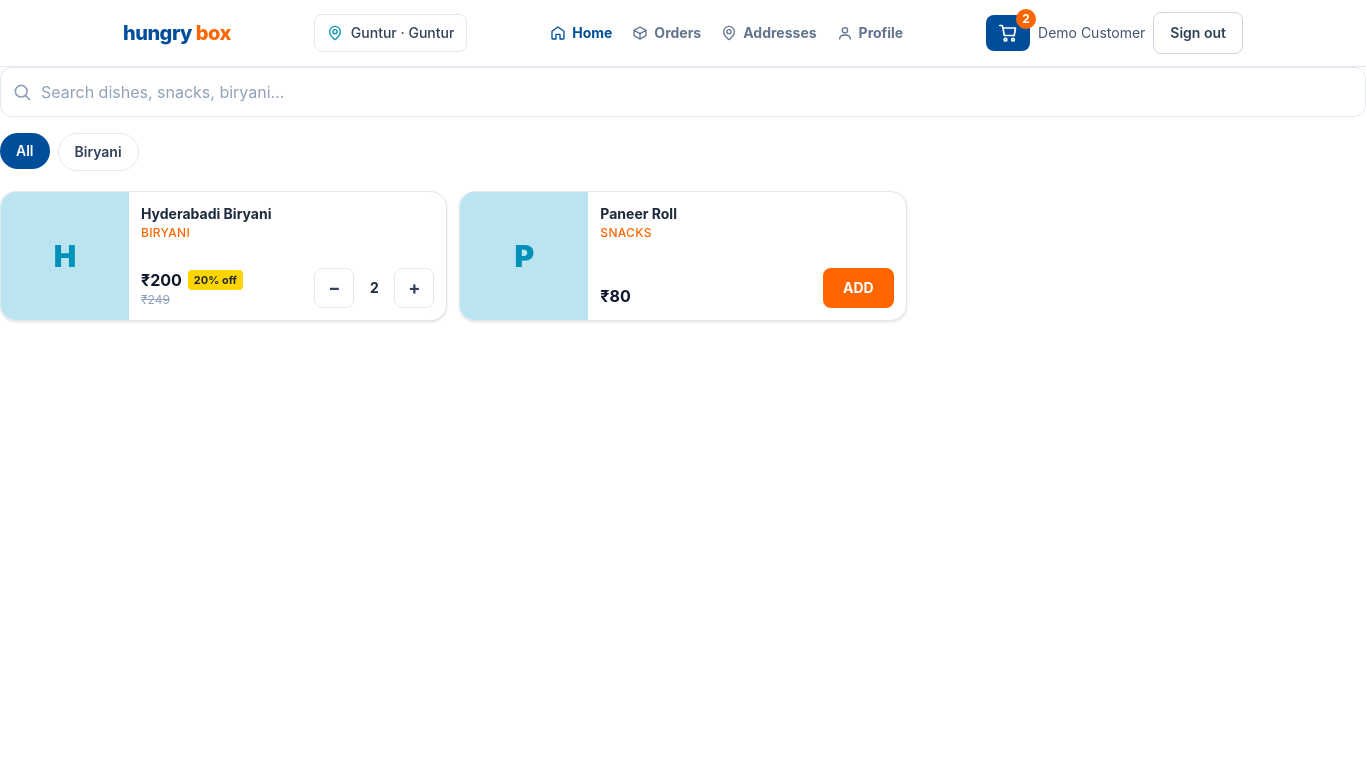
Test: location switching › asks for confirmation before switching branch with a non-empty cart
Expected: the heading "Hyderabadi Biryani" is shown, [141,205,272,222]
Click the button "Guntur · Guntur" at {"x": 391, "y": 33}, box [314,14,467,52]
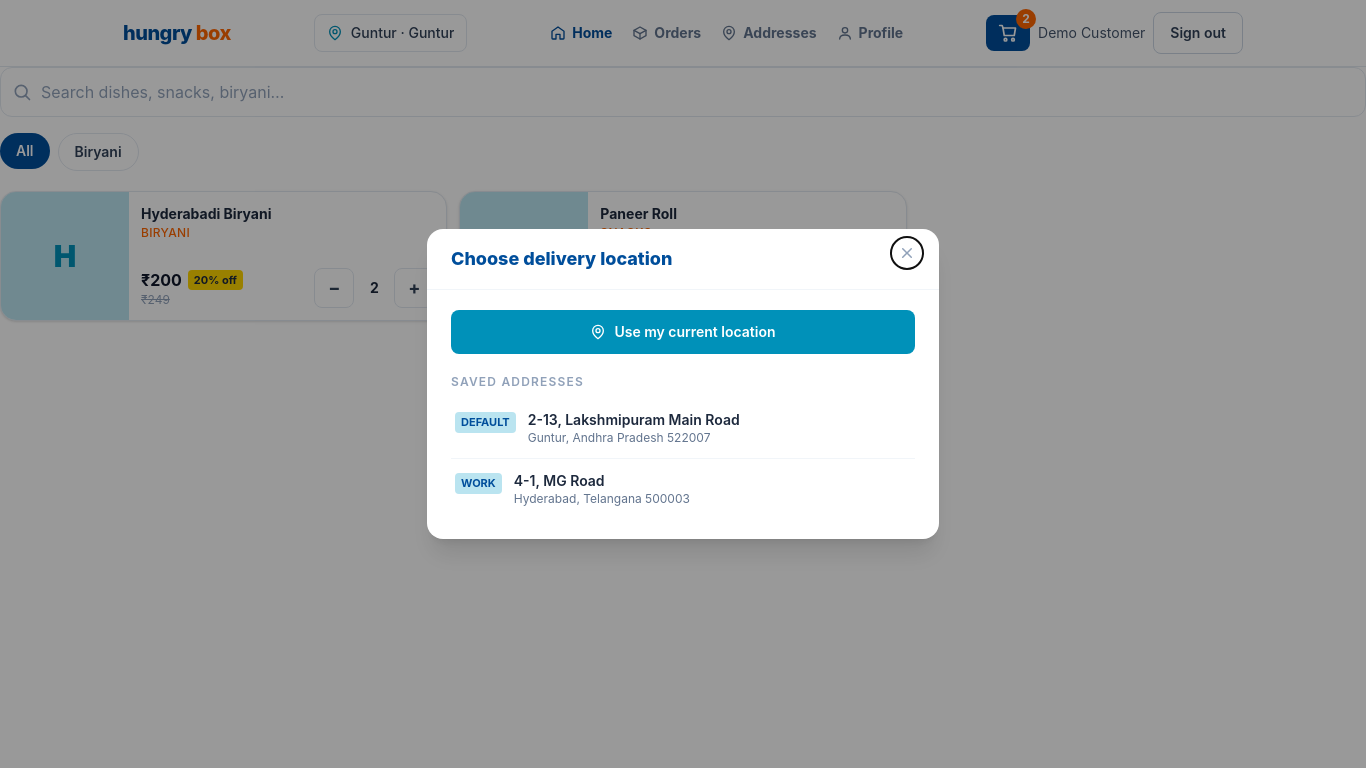
Click the button "WORK 4-1, MG Road Hyderabad, Telangana 500003" at {"x": 683, "y": 489}, box [451,459,915,519]
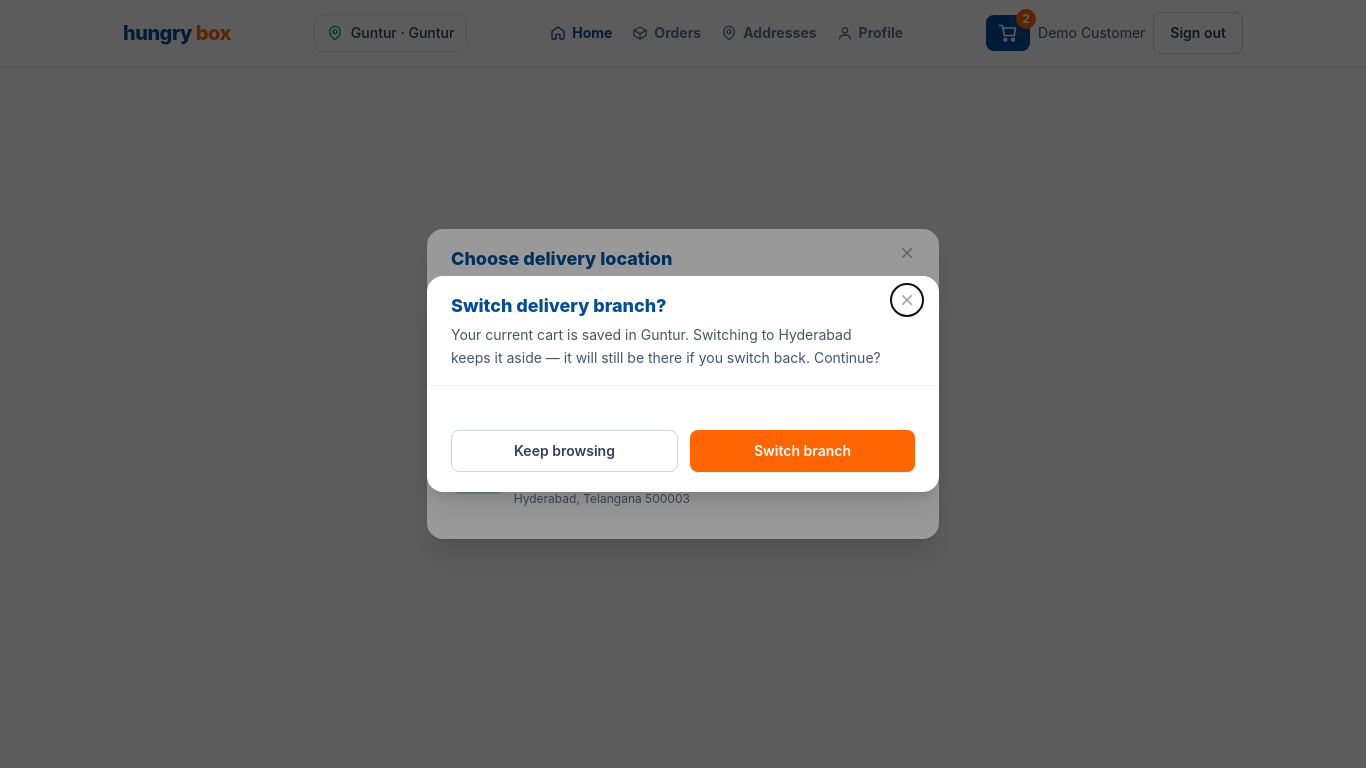
Expected: the heading "Switch delivery branch?" is shown, [451,295,666,316]
Click the button "Switch branch" at {"x": 802, "y": 451}, box [690,430,915,472]
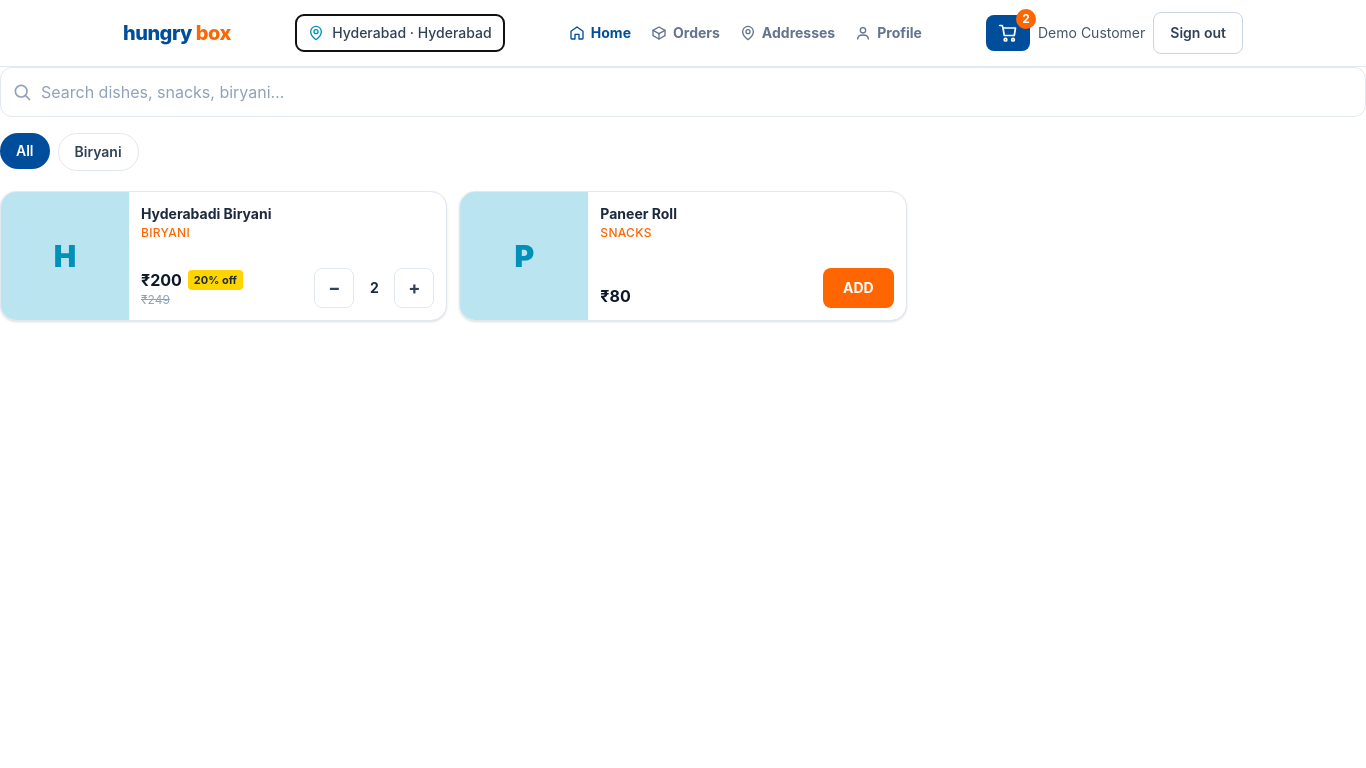
Expected: the heading "Switch delivery branch?" is gone
Expected: the button "Hyderabad · Hyderabad" is shown, [295,14,505,52]
